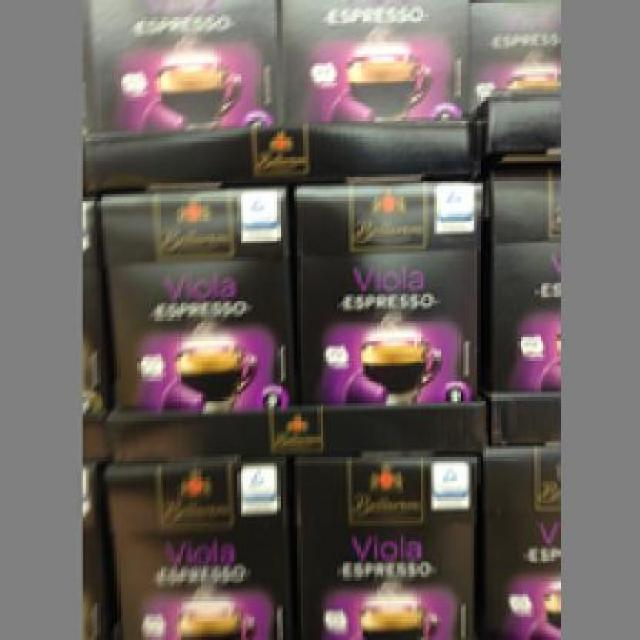Coffee: (289, 174, 480, 406), (97, 182, 286, 415), (100, 452, 286, 638), (288, 452, 474, 638), (86, 0, 284, 132), (279, 0, 472, 123)
